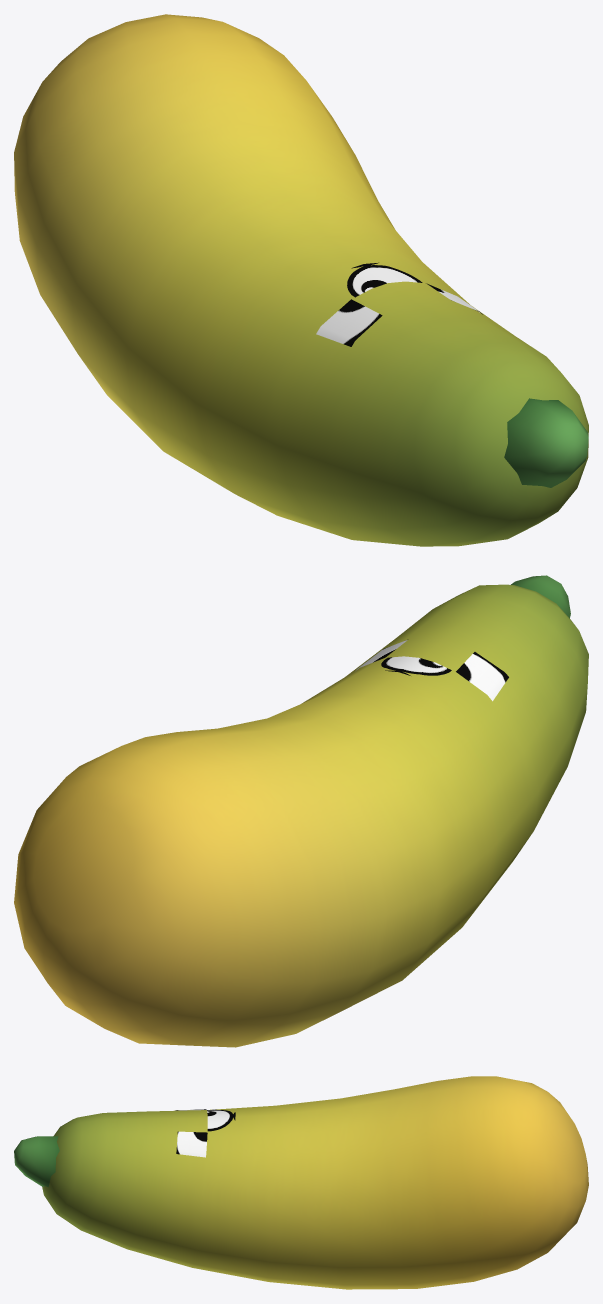
File: zucchini_smile.fbx
3 views of the same model, one above another, from view 1: azimuth 30°, elevation 25°; view 2: azimuth 150°, elevation 25°; view 3: azimuth 270°, elevation 25° (orthographic). The views are drawn at different scales.
Parts seen in each view (by area): view 1: zucchini_smile; view 2: zucchini_smile; view 3: zucchini_smile.
Part boxes in pixels (box(x1,y1,x2,y2)): zucchini_smile: box(14, 14, 588, 546); zucchini_smile: box(14, 575, 588, 1047); zucchini_smile: box(14, 1076, 588, 1289).
Bounding box in the file's own units: 50.87 × 53.25 × 136.
